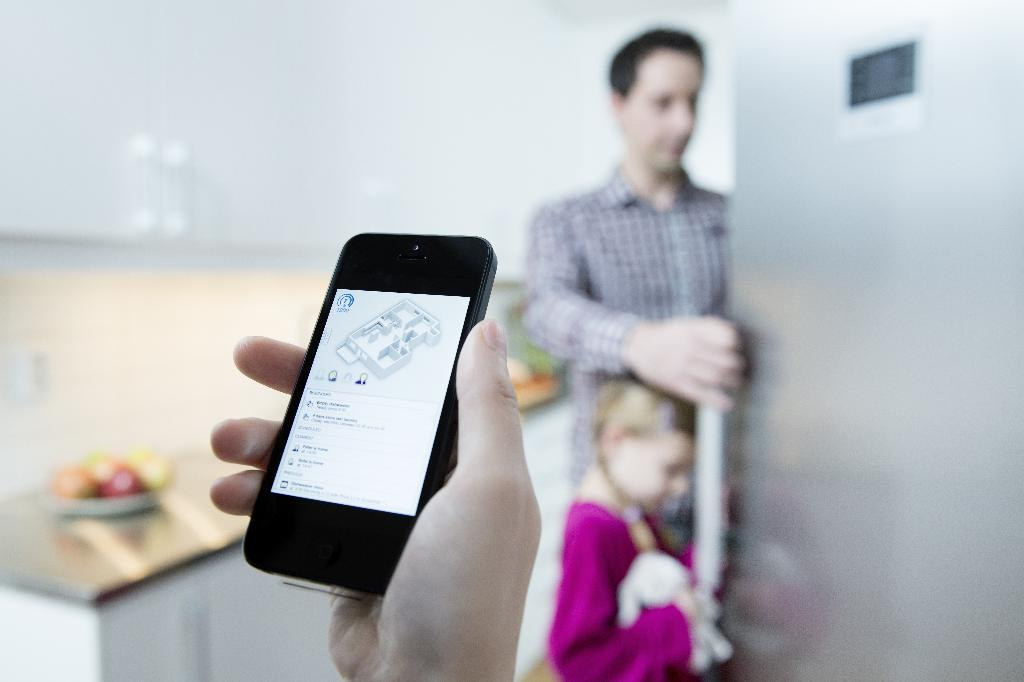Mobile-phone: (237, 230, 498, 591)
